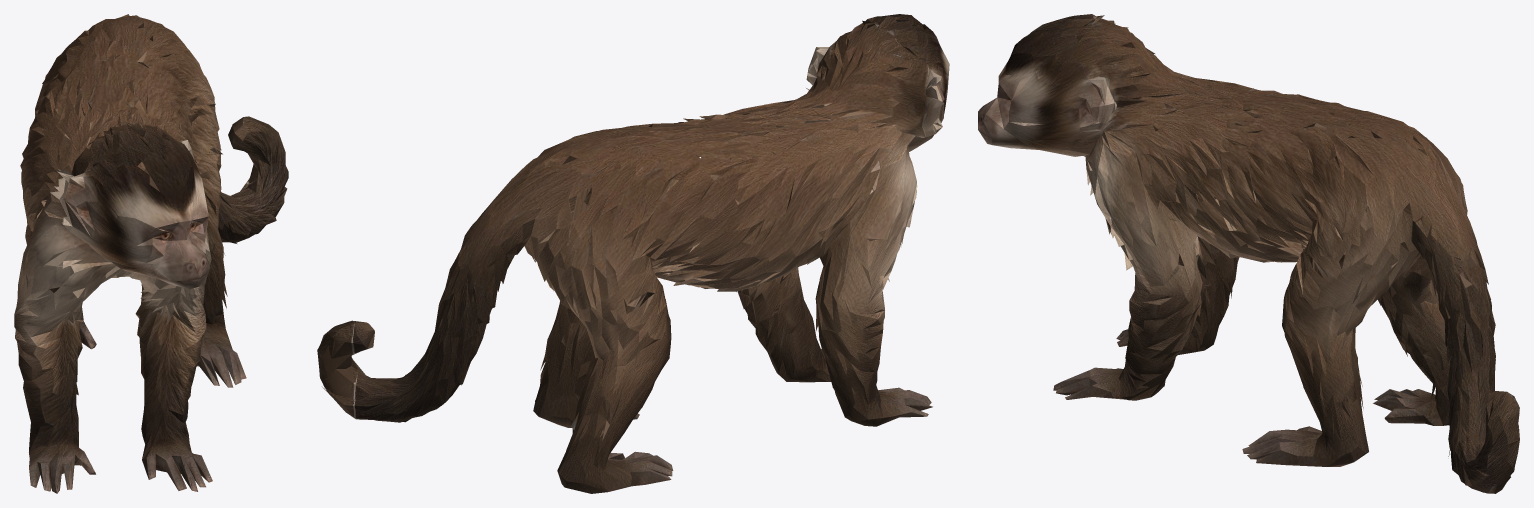
The model's file is capuchin.glb.
3 views of the same model, side by side, from view 1: azimuth 30°, elevation 25°; view 2: azimuth 150°, elevation 25°; view 3: azimuth 270°, elevation 25° (orthographic). The views are drawn at different scales.
Visible parts, largest first — view 1: Mesh_0; view 2: Mesh_0; view 3: Mesh_0.
Boxes of the visible parts, x1,y1,x2,y2 form: Mesh_0: (14,14,288,493); Mesh_0: (317,14,949,493); Mesh_0: (978,14,1519,493).
Bounding box in the file's own units: 1.71 × 1.37 × 1.9.
Materials: 1 (1 with a texture image).
